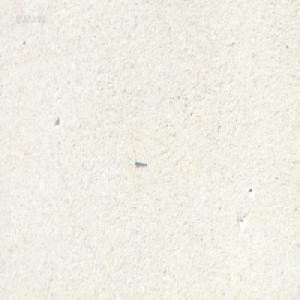Nail: (134, 158, 146, 165)
